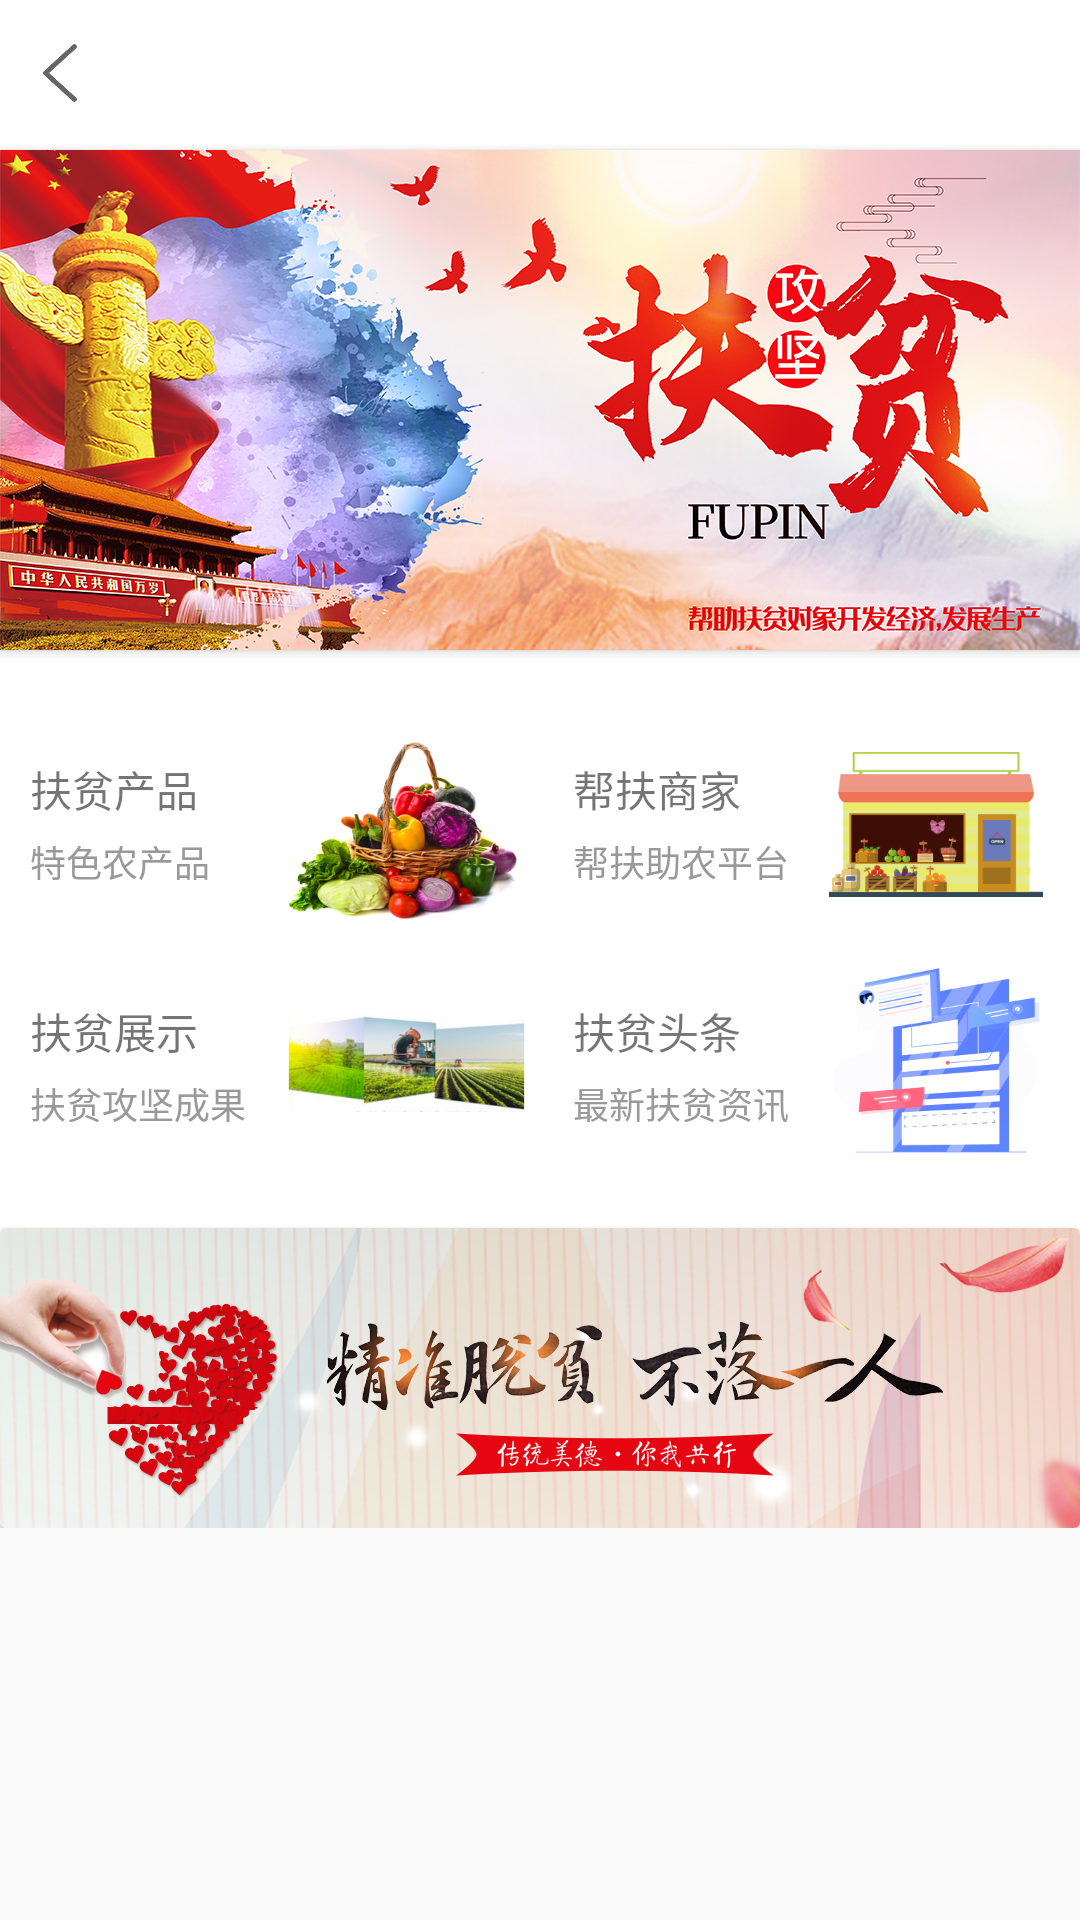

Icons on this 1080x1920 Android screen, each with the point to tap as point (x, y):
back: point (60, 73)
fupinchanpin: point (403, 830)
fupinshangjia: point (936, 824)
fupintoutiao: point (947, 1060)
fupinzhanshi: point (406, 1064)
